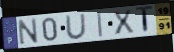0: (41, 16, 60, 42)
I: (97, 11, 104, 39)
N: (17, 17, 40, 47)
T: (135, 5, 154, 35)
U: (64, 13, 88, 41)
X: (111, 9, 137, 36)
